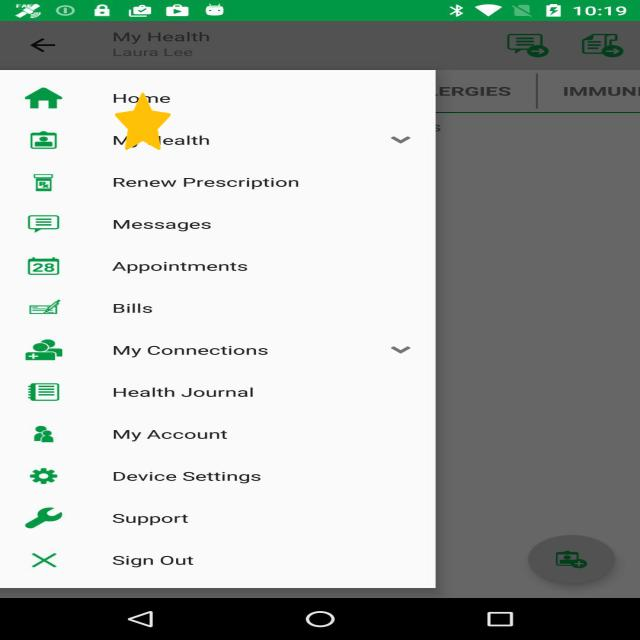forced continuity: (115, 93, 171, 150)
